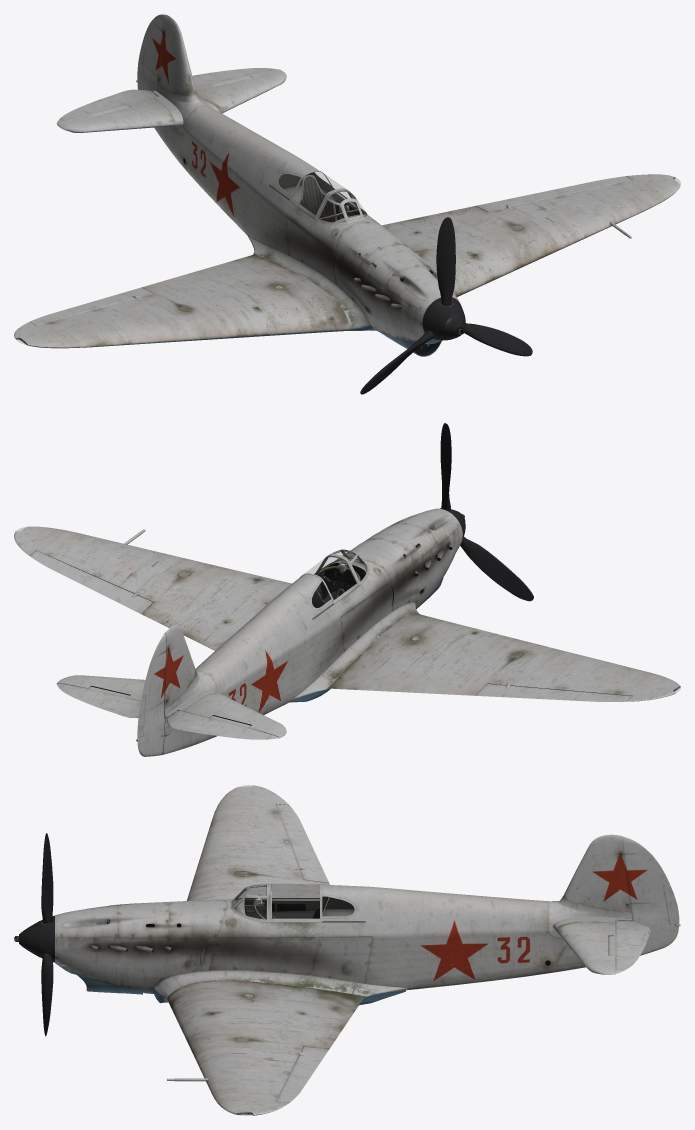
Rendered from yak-1_litvyak_war_thunder_spearhead.glb.
3 renders of one model, top to bottom at view 1: azimuth 30°, elevation 25°; view 2: azimuth 150°, elevation 25°; view 3: azimuth 270°, elevation 25°, orthographic. The views are drawn at different scales.
Parts seen in each view (by area): view 1: Object_3, Object_4, Object_2, Object_5; view 2: Object_3, Object_4, Object_2, Object_5; view 3: Object_4, Object_3, Object_2, Object_5, Object_8.
Boxes of the visible parts, left/top/right/bottom form: Object_3: left=14, top=68, right=680, bottom=348; Object_4: left=224, top=132, right=461, bottom=356; Object_2: left=57, top=14, right=532, bottom=394; Object_5: left=474, top=176, right=631, bottom=255; Object_3: left=14, top=526, right=680, bottom=739; Object_4: left=235, top=508, right=462, bottom=713; Object_2: left=57, top=423, right=533, bottom=756; Object_5: left=30, top=550, right=257, bottom=614; Object_4: left=55, top=883, right=456, bottom=1005; Object_3: left=167, top=785, right=650, bottom=1115; Object_2: left=14, top=833, right=679, bottom=1036; Object_5: left=211, top=1013, right=328, bottom=1102; Object_8: left=236, top=785, right=680, bottom=1115.
Bounding box in the file's own units: 9.96 × 2.35 × 8.51.
Materials: 4 (3 with a texture image).
